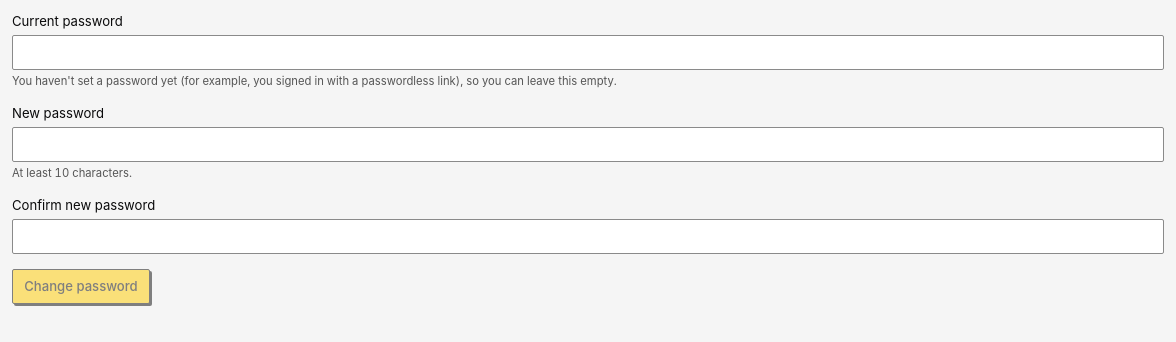
Test: 英文界面：改密码表单文案
Check: the text "You haven't set a password yet" is shown, box [12,74,617,88]
Type "abc" into the password field labelled "New password".
click(588, 144); type("abc")  # box [12,126,1164,162]
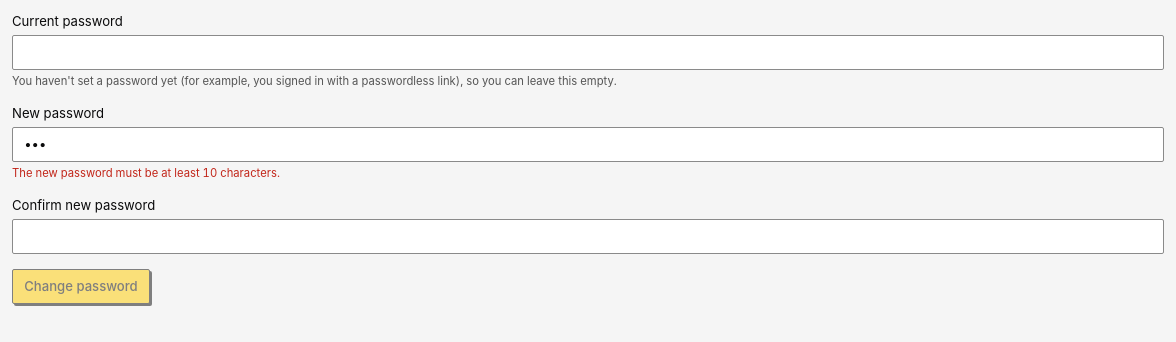
Check: the text "The new password must be at least 10 characters." is shown, box [12,166,280,180]
Type "abcdefghij" into the password field labelled "New password".
click(588, 144); type("abcdefghij")  # box [12,126,1164,162]
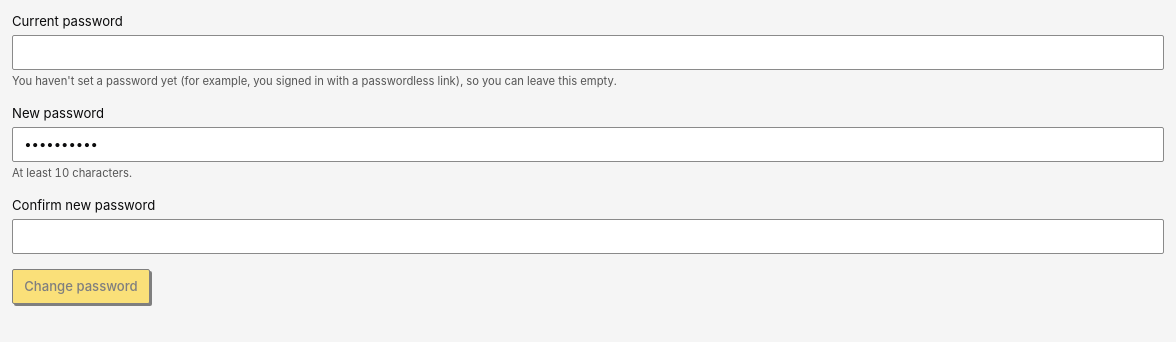
Type "x" into the password field labelled "Confirm new password".
click(588, 236); type("x")  # box [12,218,1164,254]
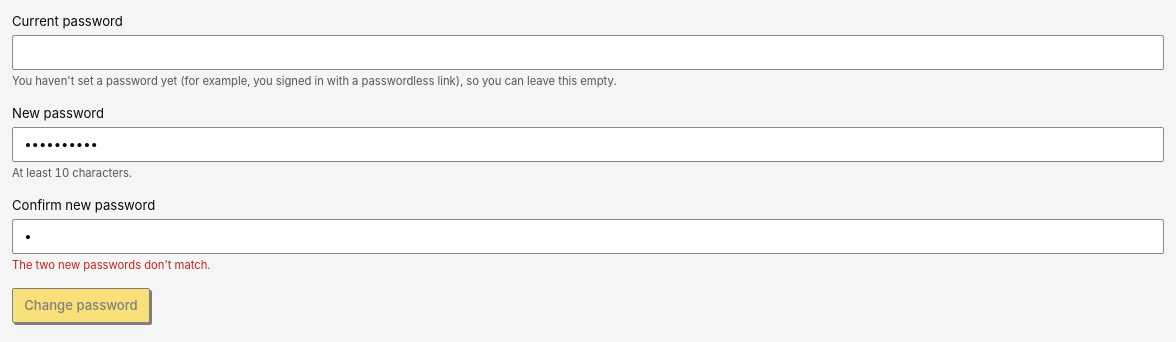
Check: the button "Change password" is shown, box [12,288,150,323]
Check: the text "The two new passwords don't match." is shown, box [12,258,210,272]
